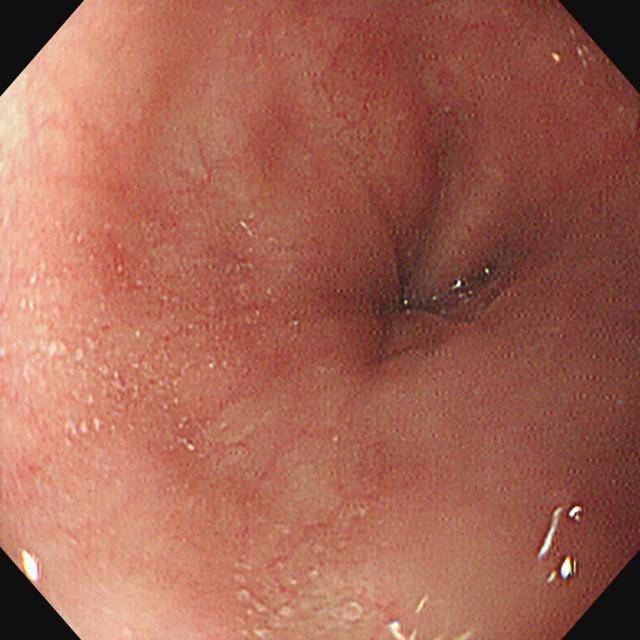I: (305, 178, 531, 425)
U: (541, 503, 584, 585), (22, 547, 46, 585)
